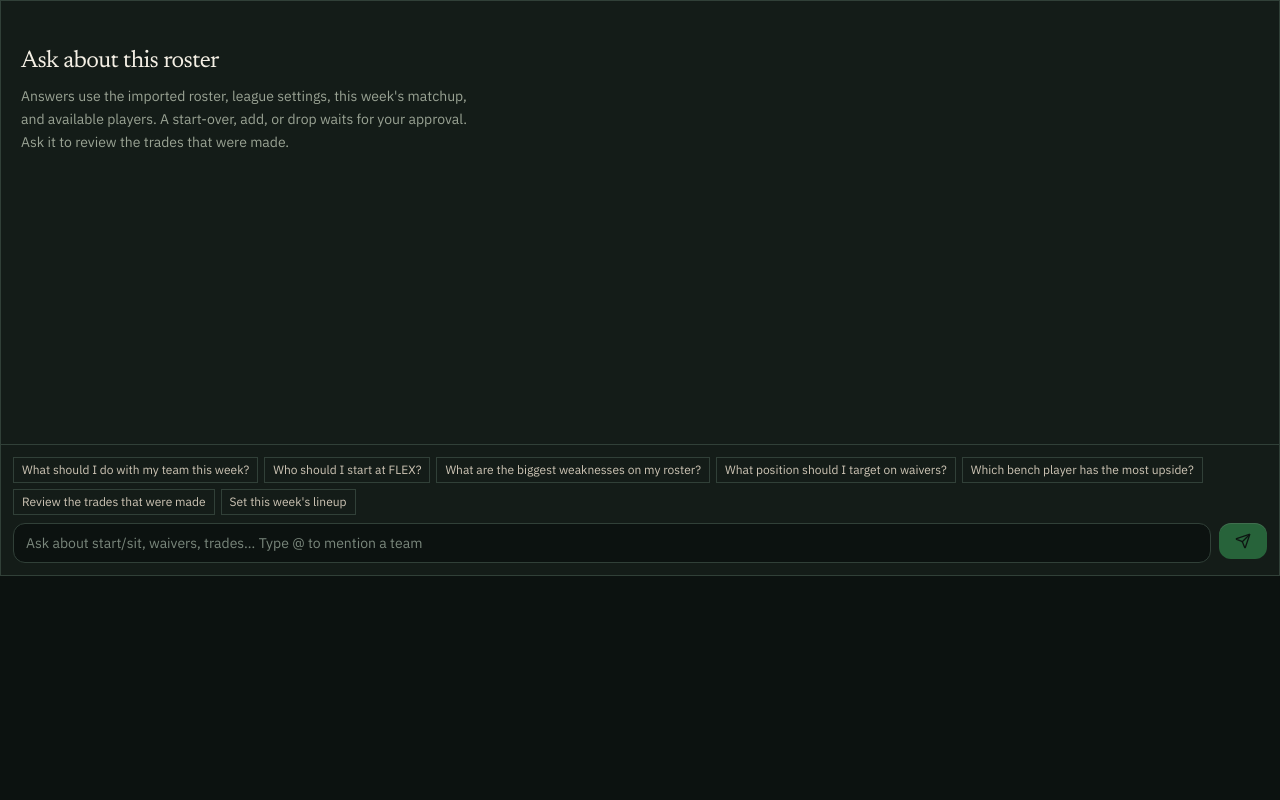
Scenario: Chat subs › asks before adding and dropping, and writes only after approval
Type "add Free Agent and drop Bench Receiver" into the field named "Message". click: (612, 543)
box: [13, 523, 1211, 563]
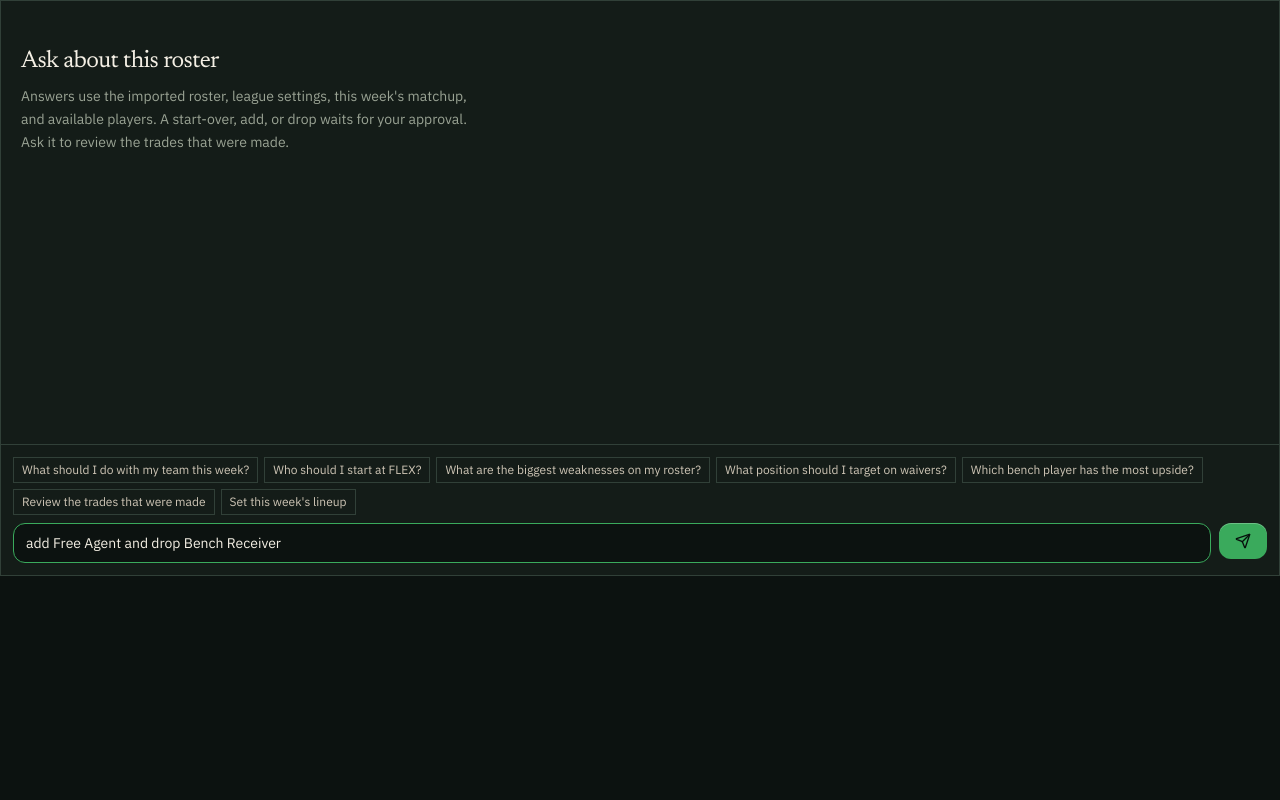
Click the button named "Send". click: (1243, 541)
box: [1219, 523, 1267, 559]
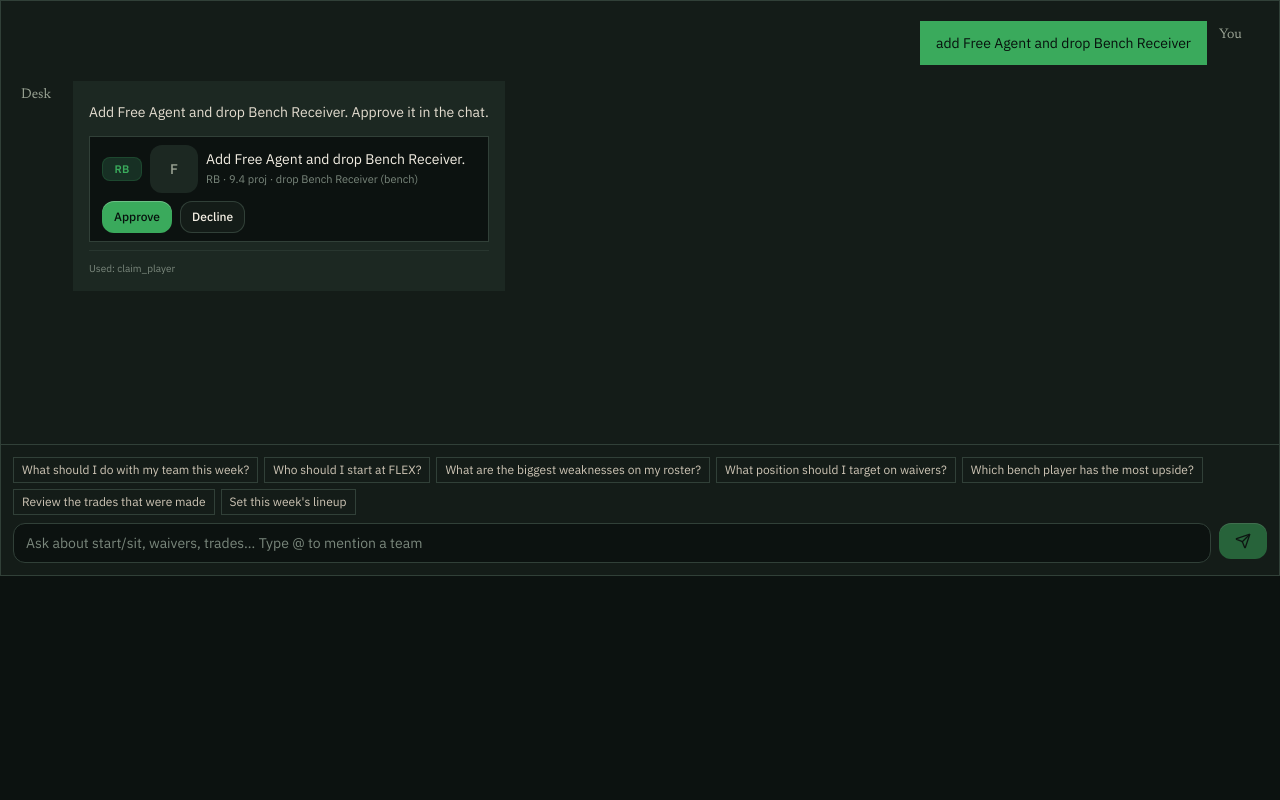
Result: the element with test id "roster-approval" shows "Add Free Agent and drop Bench Receiver." at [206, 150, 465, 168]
Click the button with test id "claim-approve". click: (137, 217)
box: [102, 201, 172, 233]
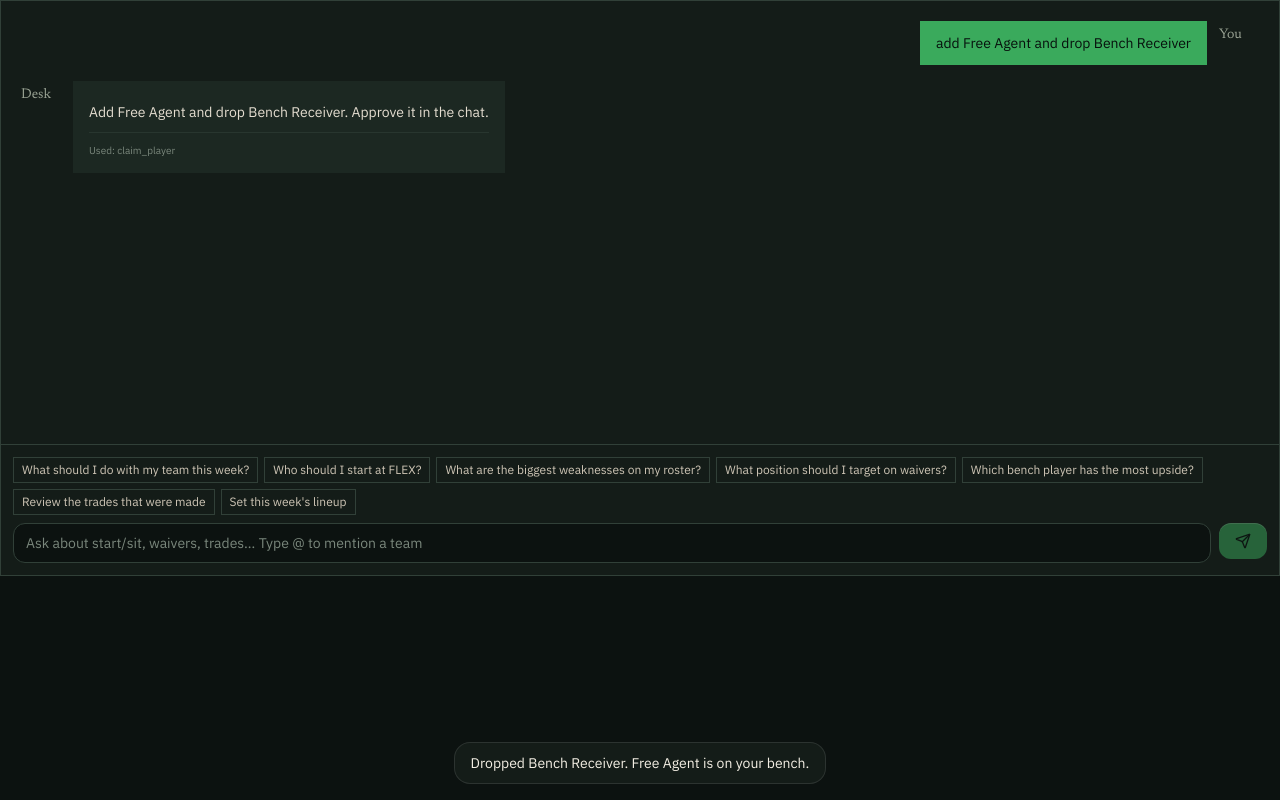
Result: the message with test id "toast" reads "Dropped Bench Receiver. Free Agent is on your bench." at [471, 754, 809, 772]
